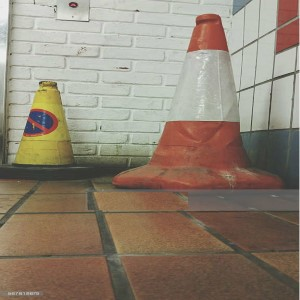traffic cone: (112, 14, 285, 189), (1, 81, 102, 181)
